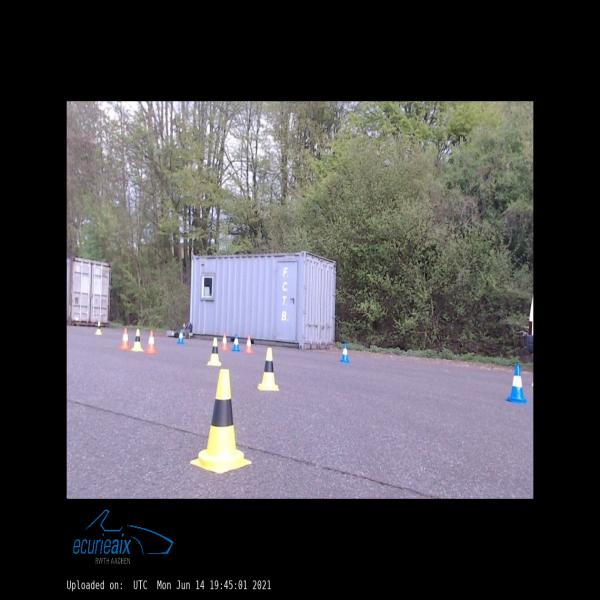blue_cone: (505, 364, 528, 404), (340, 343, 350, 362), (232, 334, 240, 351), (177, 329, 185, 343)
orange_cone: (146, 330, 158, 352), (120, 328, 130, 349), (220, 332, 230, 350), (244, 335, 253, 353)
yellow_cone: (190, 370, 252, 474), (258, 348, 279, 390), (207, 338, 222, 366), (131, 329, 144, 351), (95, 321, 102, 335)
